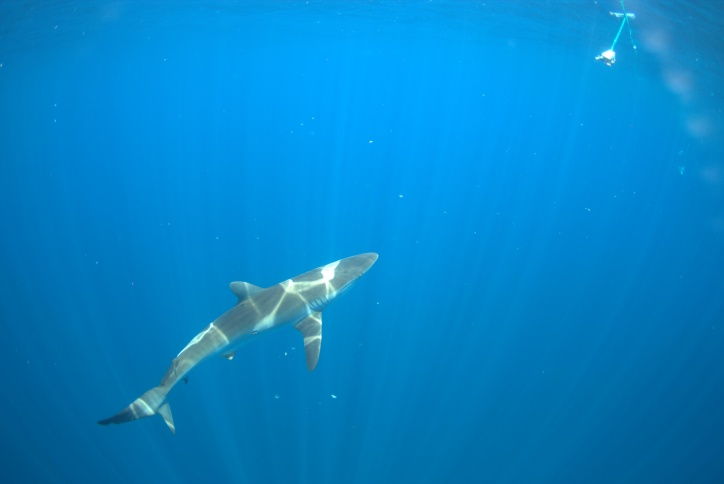Sedoso: (85, 237, 407, 453)
